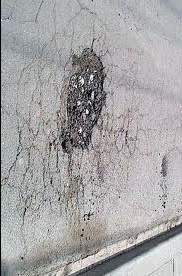pothole: (55, 44, 107, 155)
